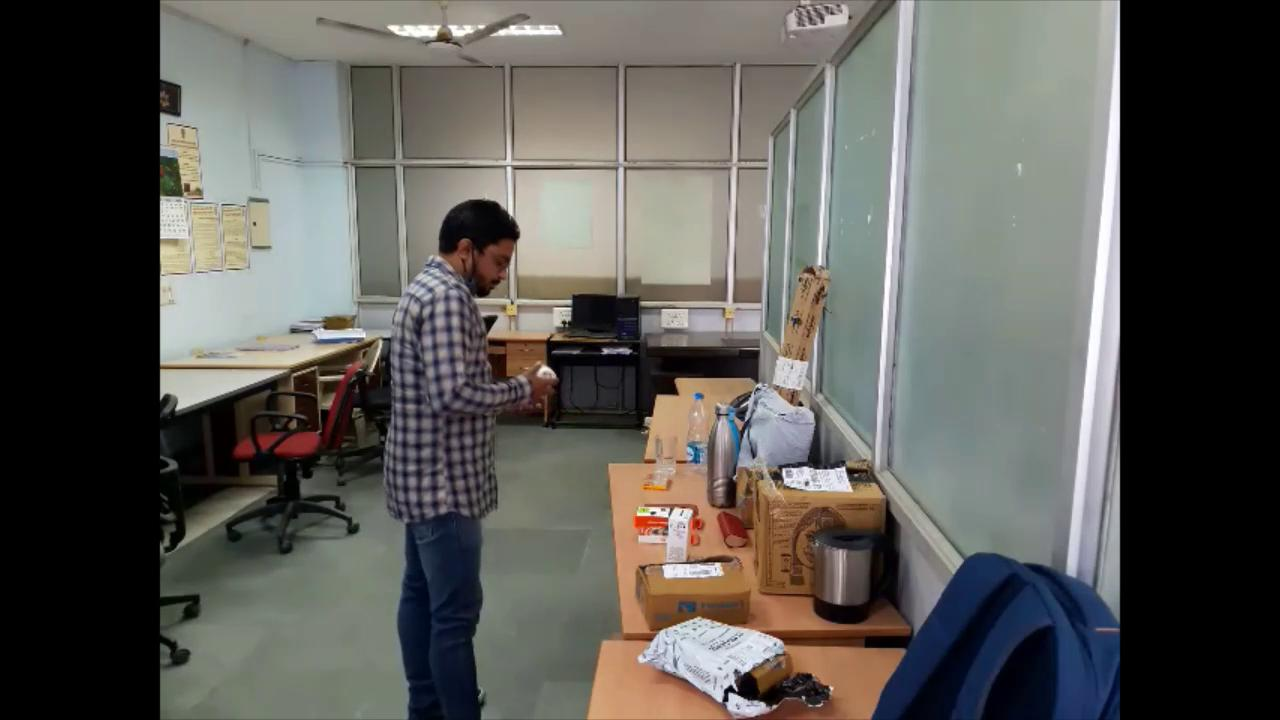Normal: (381, 192, 562, 720)
